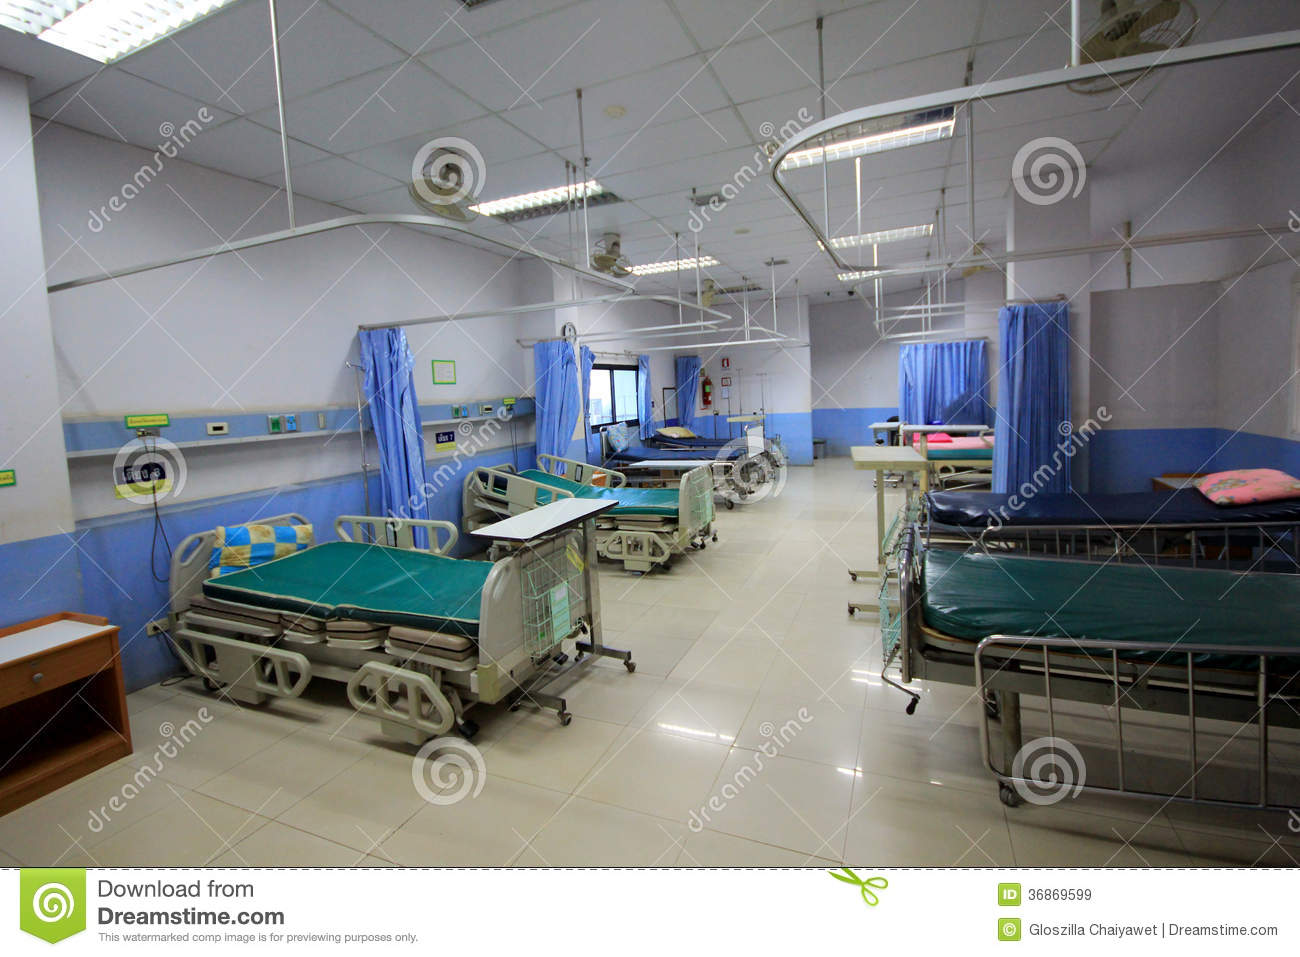bedside table: (467, 486, 632, 572)
hospital bed: (173, 507, 622, 678), (865, 540, 1285, 717), (458, 450, 740, 546), (907, 470, 1295, 523), (595, 423, 793, 484)
